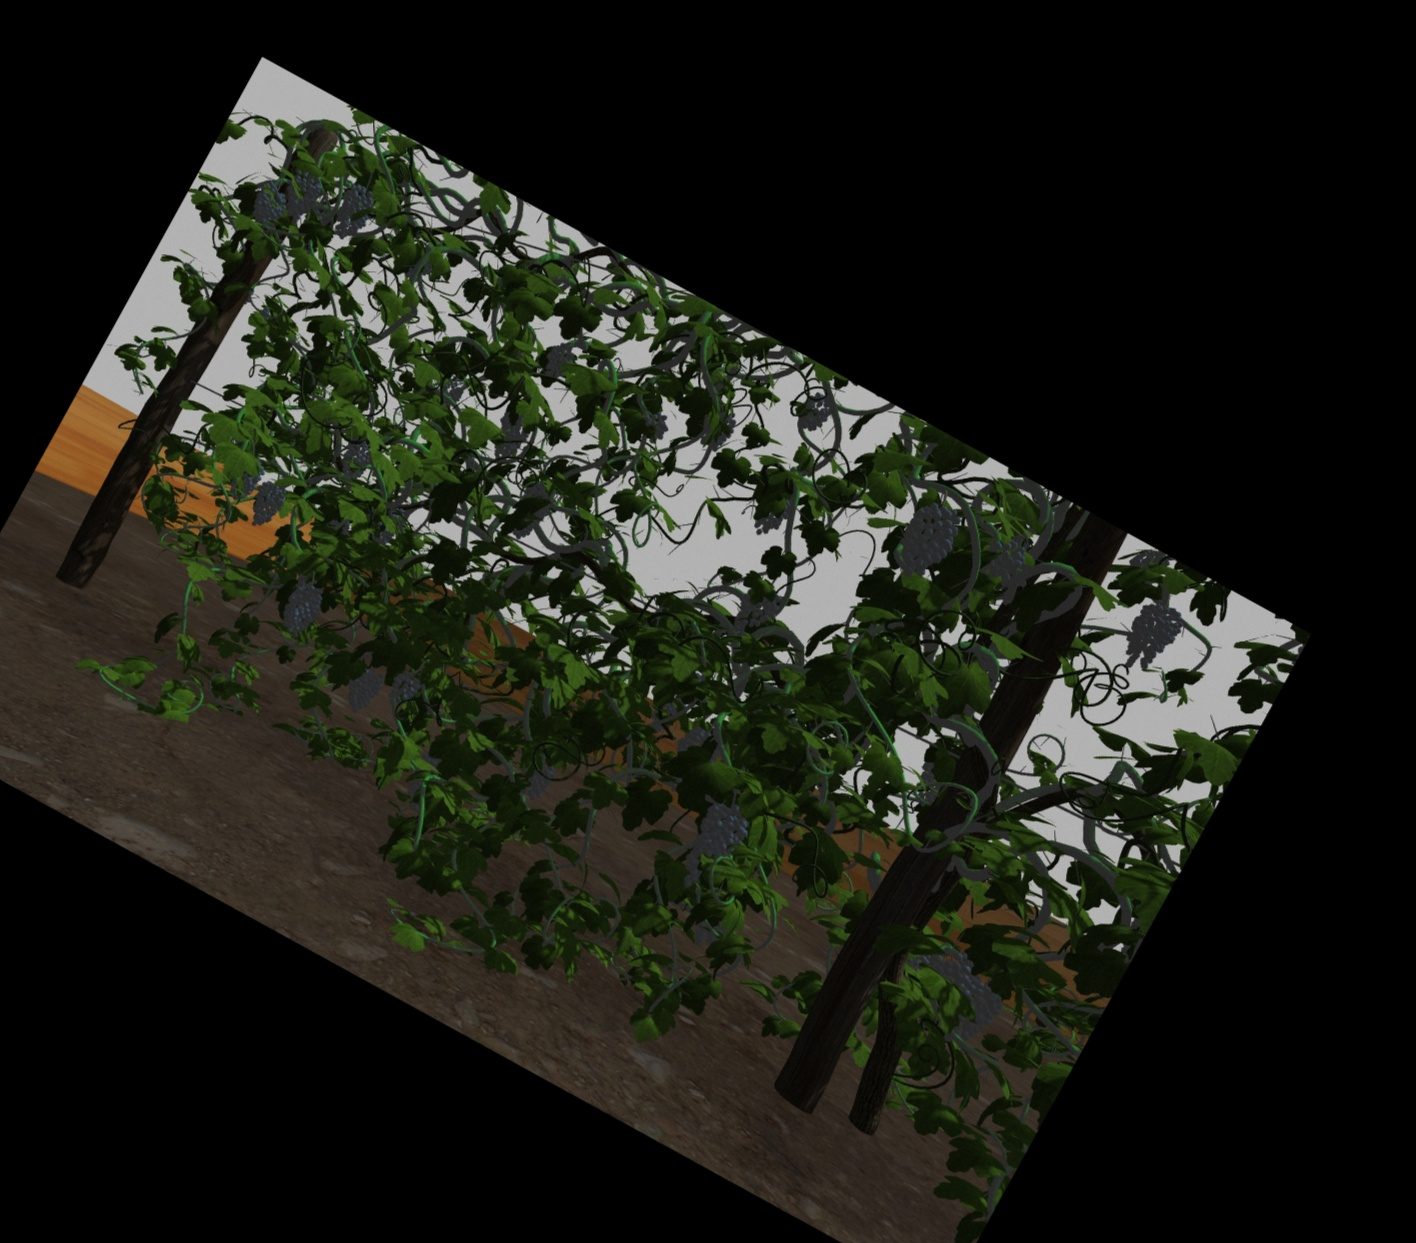grape: (691, 803, 738, 886), (904, 503, 950, 576), (1128, 603, 1172, 668), (955, 988, 992, 1045), (989, 540, 1026, 585), (337, 185, 368, 238), (741, 587, 775, 634), (284, 587, 318, 634), (287, 170, 318, 220), (925, 949, 972, 982), (495, 414, 525, 460), (348, 666, 378, 711), (254, 185, 284, 226), (252, 484, 279, 528), (798, 393, 826, 432), (342, 440, 368, 477), (523, 764, 550, 799), (390, 670, 415, 707), (234, 461, 256, 500), (638, 410, 667, 438), (547, 342, 570, 378)
